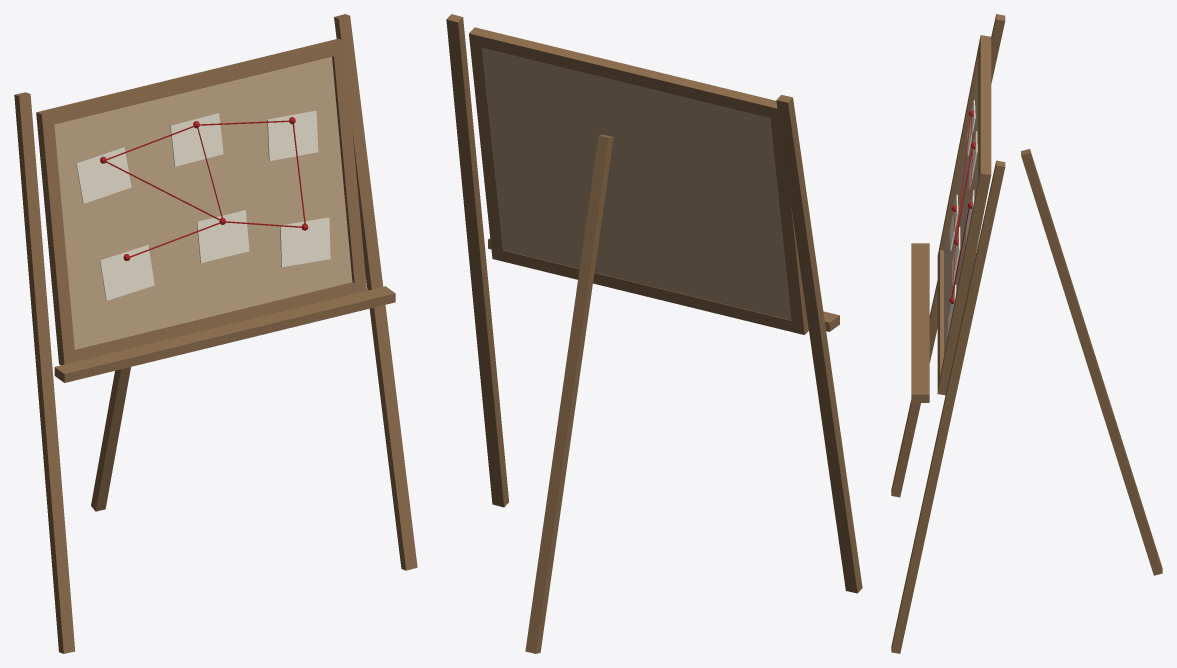
File: Prop_CaseBoard.fbx
3 views of the same model, side by side, from view 1: azimuth 30°, elevation 25°; view 2: azimuth 150°, elevation 25°; view 3: azimuth 270°, elevation 25° (orthographic). The views are drawn at different scales.
Parts seen in each view (by area): view 1: CaseBoard_Cork, CaseBoard_Wood, CaseBoard_Cards, CaseBoard_PinsString; view 2: CaseBoard_Cork, CaseBoard_Wood; view 3: CaseBoard_Wood, CaseBoard_Cork, CaseBoard_Cards, CaseBoard_PinsString.
Part boxes in pixels (x1,y1,x2,y2): CaseBoard_Cork: [54, 57, 352, 349]; CaseBoard_Wood: [14, 14, 417, 653]; CaseBoard_Cards: [76, 110, 330, 300]; CaseBoard_PinsString: [100, 117, 308, 260]; CaseBoard_Cork: [482, 47, 791, 320]; CaseBoard_Wood: [446, 14, 862, 653]; CaseBoard_Wood: [891, 14, 1162, 653]; CaseBoard_Cork: [944, 75, 978, 355]; CaseBoard_Cards: [947, 100, 977, 336]; CaseBoard_PinsString: [949, 110, 975, 303].
Size of the model in its own units: 1.24 by 1.73 by 0.8792.
